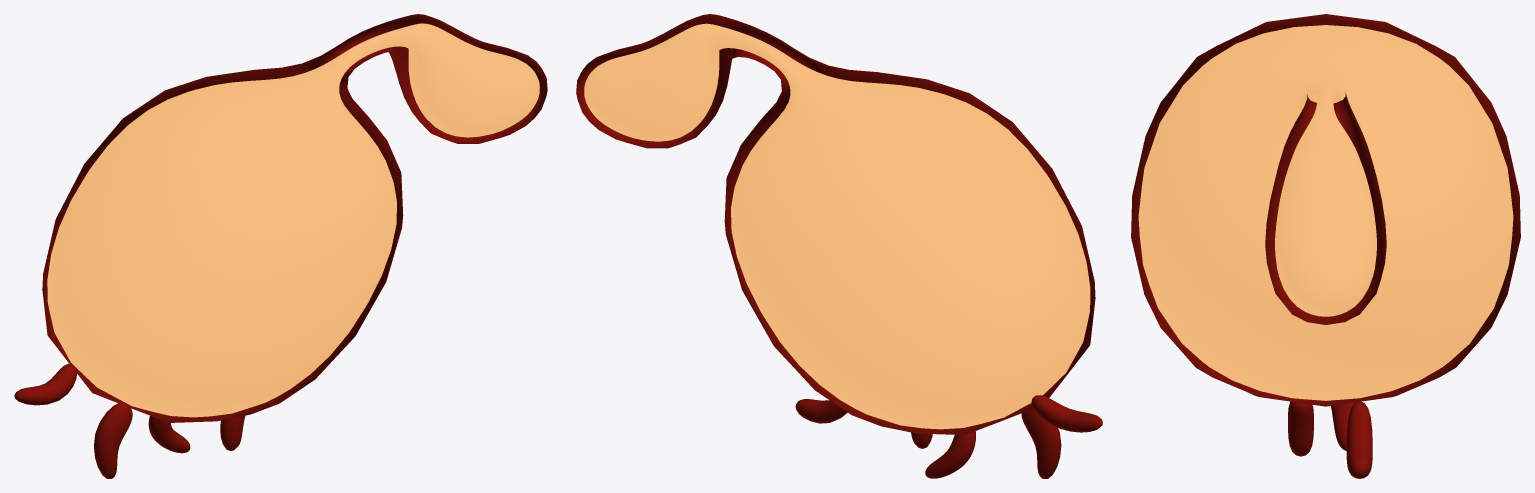
File: Lightseed.glb
3 views of the same model, side by side, from view 1: azimuth 30°, elevation 25°; view 2: azimuth 150°, elevation 25°; view 3: azimuth 270°, elevation 25° (orthographic). The views are drawn at different scales.
Visible parts, largest first — view 1: main body, main outline, leg4, leg3.001, leg3, leg2; view 2: main body, main outline, leg4, leg3.001, leg3, leg1.001; view 3: main body, main outline, leg1.001, leg2, leg3.
Part boxes in pixels (bbox=[...]): main body: bbox=[47, 23, 539, 417]; main outline: bbox=[42, 14, 547, 422]; leg4: bbox=[94, 402, 132, 478]; leg3.001: bbox=[14, 363, 77, 405]; leg3: bbox=[148, 415, 190, 453]; leg2: bbox=[220, 415, 245, 450]; main body: bbox=[584, 23, 1090, 429]; main outline: bbox=[576, 14, 1095, 434]; leg4: bbox=[1021, 403, 1061, 478]; leg3.001: bbox=[1031, 395, 1102, 432]; leg3: bbox=[925, 431, 975, 478]; leg1.001: bbox=[795, 399, 847, 423]; main body: bbox=[1138, 25, 1513, 400]; main outline: bbox=[1131, 14, 1520, 406]; leg1.001: bbox=[1346, 401, 1372, 478]; leg2: bbox=[1288, 398, 1313, 456]; leg3: bbox=[1331, 402, 1355, 450].
Size of the model in its own units: 0.4776 by 0.3423 by 0.2502.
